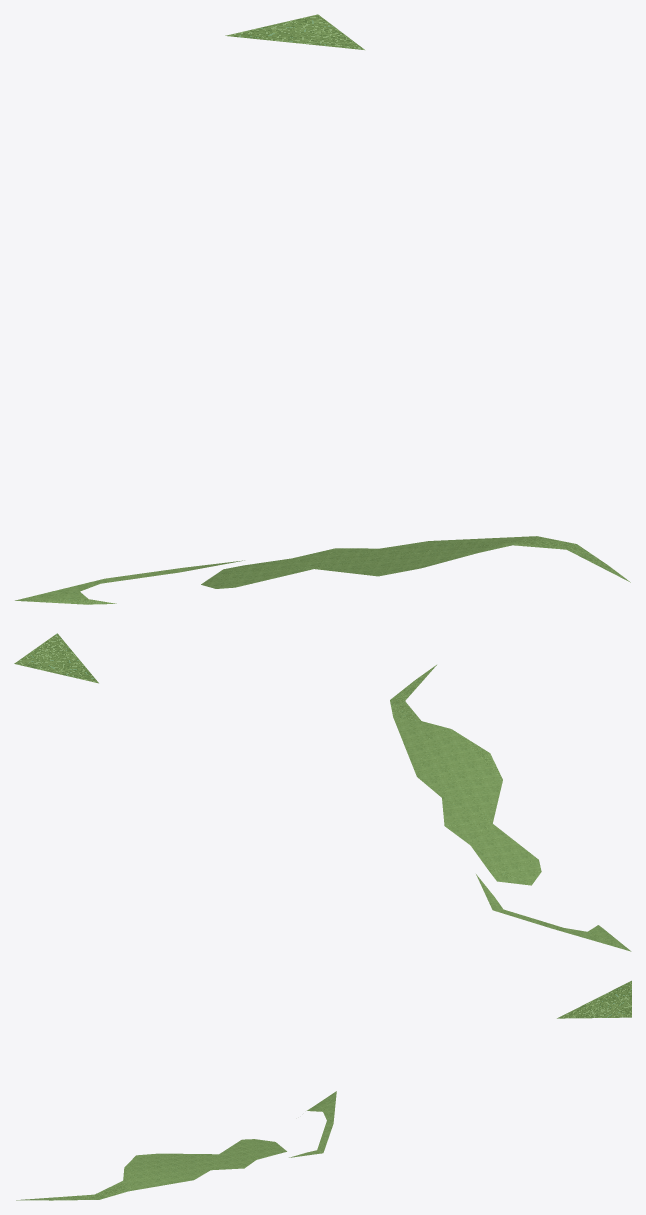
The model's file is kd_connection_town-ground_surface_4_3.glb.
The picture shows the model from 3 angles, top to bottom: view 1: azimuth 30°, elevation 25°; view 2: azimuth 150°, elevation 25°; view 3: azimuth 270°, elevation 25°; orthographic projection. The views are drawn at different scales.
Visible parts, largest first — view 1: kd_connection_town-ground_surface_4_3; view 2: kd_connection_town-ground_surface_4_3; view 3: kd_connection_town-ground_surface_4_3.
Part boxes in pixels (x1,y1,x2,y2): kd_connection_town-ground_surface_4_3: [15, 14, 630, 604]; kd_connection_town-ground_surface_4_3: [14, 633, 631, 951]; kd_connection_town-ground_surface_4_3: [16, 980, 631, 1200].
Bounding box in the file's own units: 88.42 × 57.63 × 122.
1 material, 1 textured.
